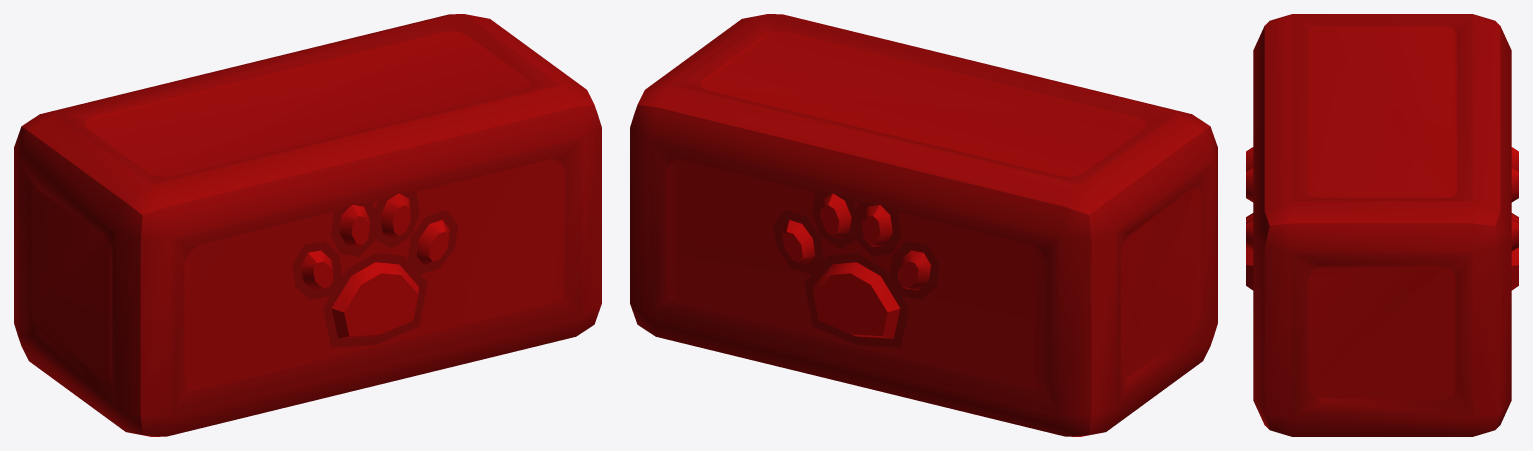
The model's file is kup5_2.glb.
3 renders of one model, left to right at view 1: azimuth 30°, elevation 25°; view 2: azimuth 150°, elevation 25°; view 3: azimuth 270°, elevation 25°, orthographic. The views are drawn at different scales.
Parts seen in each view (by area): view 1: kup5_2; view 2: kup5_2; view 3: kup5_2.
Part boxes in pixels (x1,y1,x2,y2): kup5_2: (14,14,601,436); kup5_2: (630,14,1217,436); kup5_2: (1246,14,1518,436).
Bounding box in the file's own units: 3.08 × 1.54 × 1.62.
